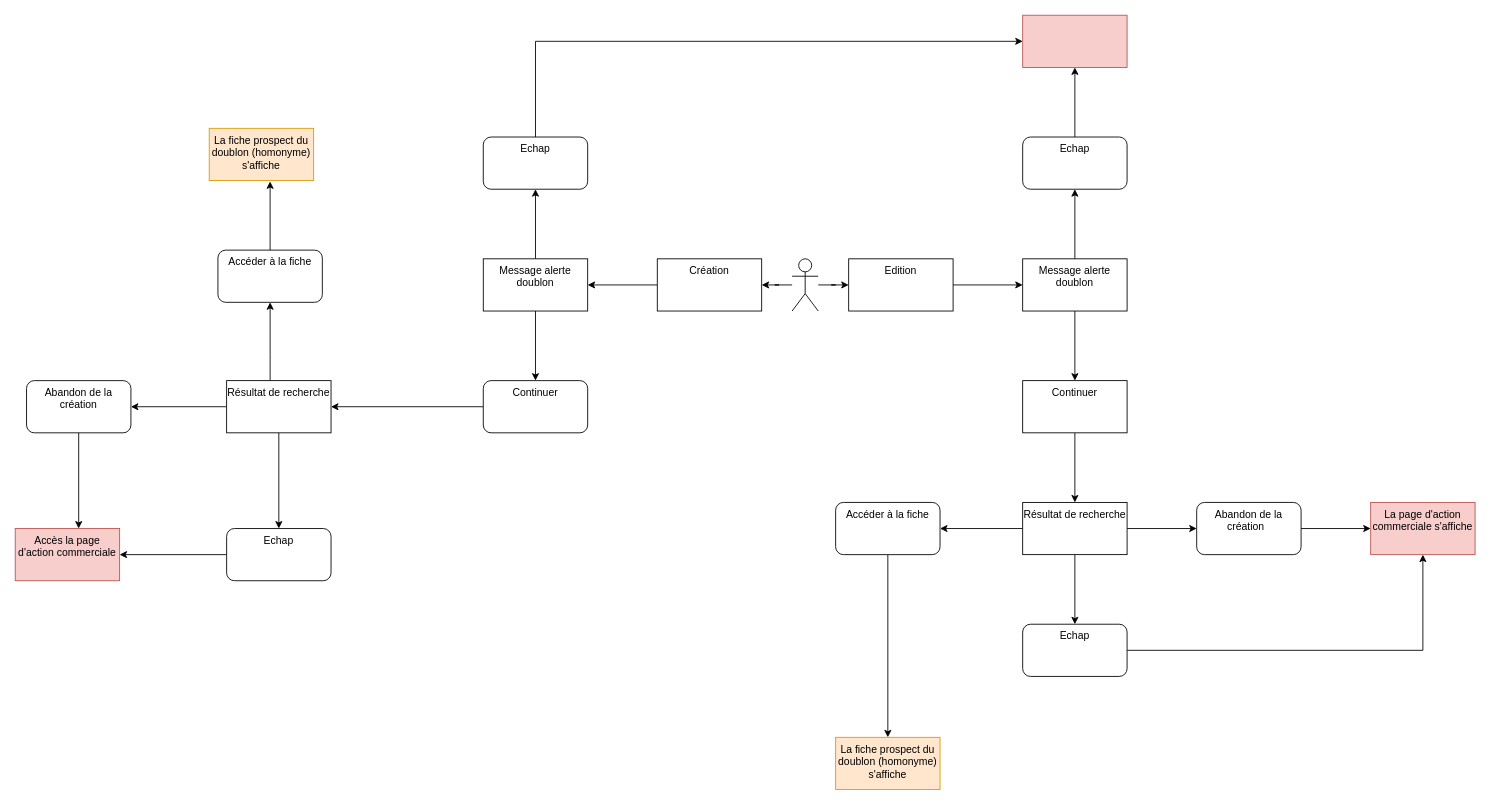
The diagram is 1490 pixels wide and 805 high, and some of its shapes have lost their labels. Each missing label, with the centre of its shape:
"Accéder à la page commerciale" goes at pixel 1074 40.
"Résidence" goes at pixel 804 284.
